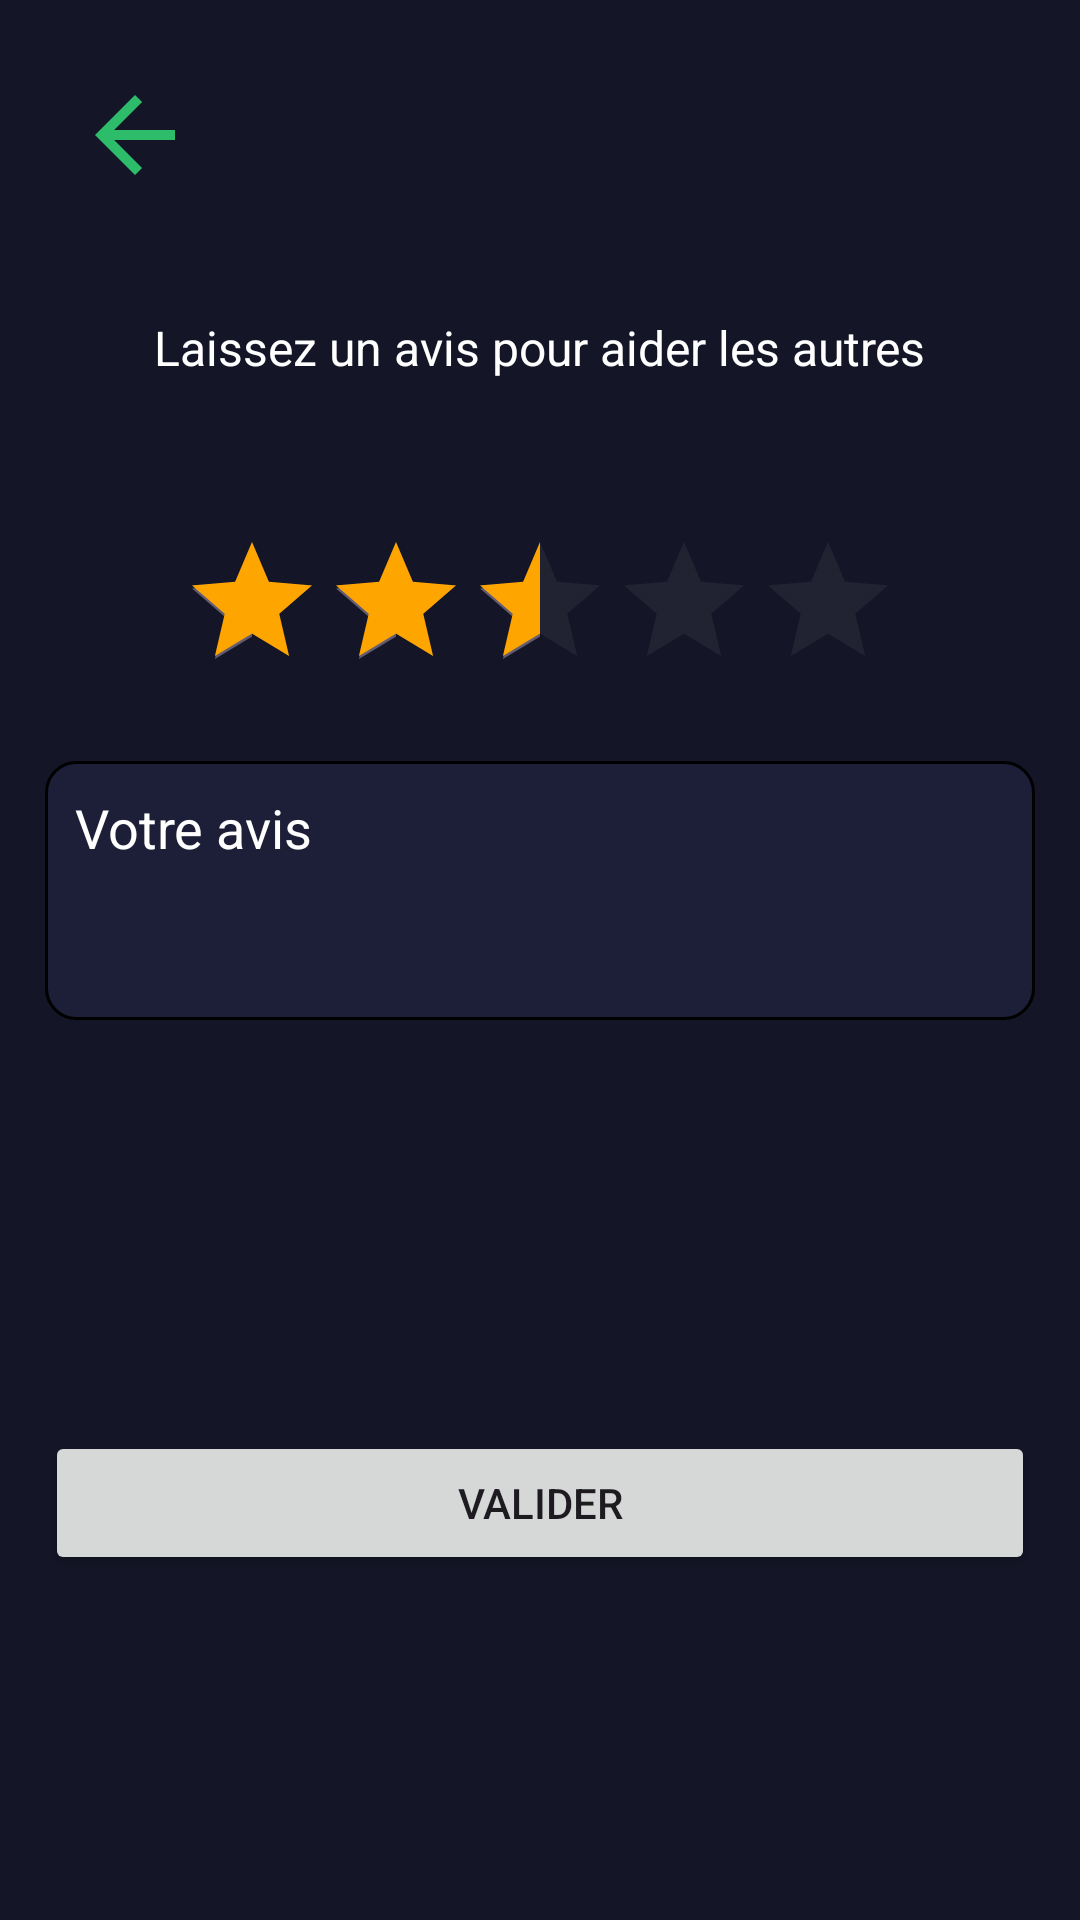

Named icons in this screenshot (1080 x 1920) and their bounding boxes, (x1, y1, x2, y2):
back action: (95, 95, 175, 175)
